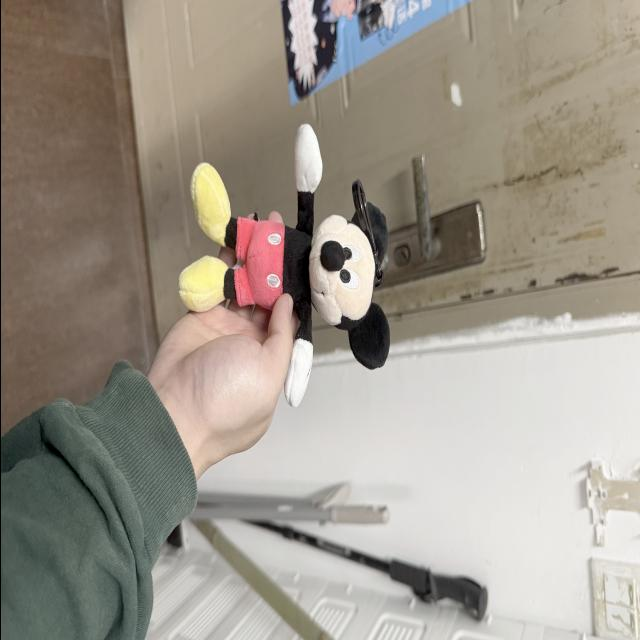mickey: (179, 125, 388, 406)
